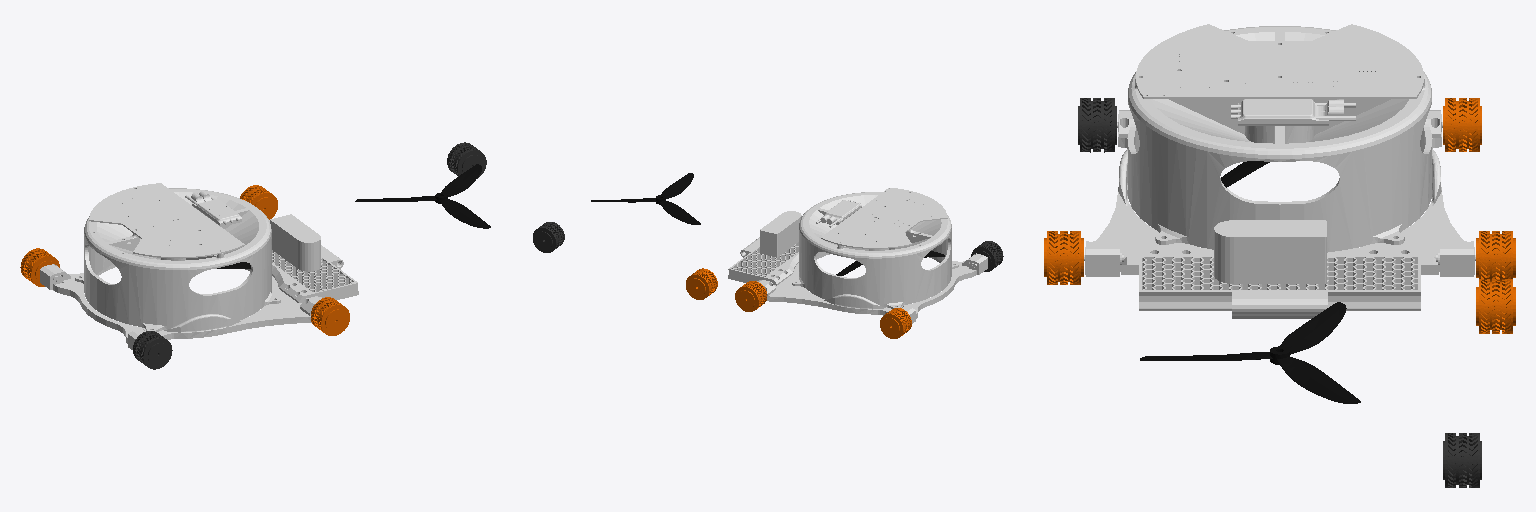
robot.urdf — urdf_risky:
<?xml version="1.0" encoding="utf-8"?>
<!-- This URDF was automatically created by SolidWorks to URDF Exporter! Originally created by Stephen Brawner (brawner@gmail.com) 
     Commit Version: 1.6.0-4-g7f85cfe  Build Version: 1.6.7995.38578
     For more information, please see http://wiki.ros.org/sw_urdf_exporter -->
<robot
  name="urdf_risky">
  <link
    name="base_link">
    <inertial>
      <origin
        xyz="-0.098856 -0.00062639 0.024345"
        rpy="0 0 0" />
      <mass
        value="0.60725" />
      <inertia
        ixx="0.0020429"
        ixy="1.9277E-07"
        ixz="4.0203E-06"
        iyy="0.0016671"
        iyz="1.228E-07"
        izz="0.0034081" />
    </inertial>
    <visual>
      <origin
        xyz="0 0 0"
        rpy="0 0 0" />
      <geometry>
        <mesh
          filename="package://urdf_risky/meshes/base_link.STL" />
      </geometry>
      <material
        name="">
        <color
          rgba="0.89412 0.89412 0.89412 1" />
      </material>
    </visual>
    <collision>
      <origin
        xyz="0 0 0"
        rpy="0 0 0" />
      <geometry>
        <mesh
          filename="package://urdf_risky/meshes/base_link.STL" />
      </geometry>
    </collision>
  </link>
  <link
    name="Rueda_r1_Link">
    <inertial>
      <origin
        xyz="1.1102E-16 2.5674E-16 3.8398E-06"
        rpy="0 0 0" />
      <mass
        value="0.020935" />
      <inertia
        ixx="2.4246E-06"
        ixy="-1.0869E-14"
        ixz="-1.4512E-17"
        iyy="2.4246E-06"
        iyz="-2.3635E-18"
        izz="2.8231E-06" />
    </inertial>
    <visual>
      <origin
        xyz="0 0 0"
        rpy="0 0 0" />
      <geometry>
        <mesh
          filename="package://urdf_risky/meshes/Rueda_r1_Link.STL" />
      </geometry>
      <material
        name="">
        <color
          rgba="0.25098 0.25098 0.25098 1" />
      </material>
    </visual>
    <collision>
      <origin
        xyz="0 0 0"
        rpy="0 0 0" />
      <geometry>
        <mesh
          filename="package://urdf_risky/meshes/Rueda_r1_Link.STL" />
      </geometry>
    </collision>
  </link>
  <joint
    name="Rueda_r1_Joint"
    type="continuous">
    <origin
      xyz="-0.23219 -0.11665 -0.005005"
      rpy="1.5708 0 0" />
    <parent
      link="base_link" />
    <child
      link="Rueda_r1_Link" />
    <axis
      xyz="0 0 1" />
    <limit
      effort="0.25"
      velocity="6" />
    <dynamics
      damping="0.02"
      friction="0.05" />
  </joint>
  <link
    name="Rueda_r2_Link">
    <inertial>
      <origin
        xyz="2.2204E-16 4.8572E-17 3.8398E-06"
        rpy="0 0 0" />
      <mass
        value="0.020935" />
      <inertia
        ixx="2.4246E-06"
        ixy="-1.141E-14"
        ixz="-1.4689E-17"
        iyy="2.4246E-06"
        iyz="7.5266E-19"
        izz="2.8231E-06" />
    </inertial>
    <visual>
      <origin
        xyz="0 0 0"
        rpy="0 0 0" />
      <geometry>
        <mesh
          filename="package://urdf_risky/meshes/Rueda_r2_Link.STL" />
      </geometry>
      <material
        name="">
        <color
          rgba="0.9098 0.44314 0.031373 1" />
      </material>
    </visual>
    <collision>
      <origin
        xyz="0 0 0"
        rpy="0 0 0" />
      <geometry>
        <mesh
          filename="package://urdf_risky/meshes/Rueda_r2_Link.STL" />
      </geometry>
    </collision>
  </link>
  <joint
    name="Rueda_r2_Joint"
    type="continuous">
    <origin
      xyz="-0.031186 -0.13795 -0.005"
      rpy="1.5708 0 0" />
    <parent
      link="base_link" />
    <child
      link="Rueda_r2_Link" />
    <axis
      xyz="0 0 1" />
    <limit
      effort="0.25"
      velocity="6" />
    <dynamics
      damping="0.02"
      friction="0.05" />
  </joint>
  <link
    name="Rueda_l1_Link">
    <inertial>
      <origin
        xyz="3.3307E-16 1.4572E-16 3.8398E-06"
        rpy="0 0 0" />
      <mass
        value="0.020935" />
      <inertia
        ixx="2.4246E-06"
        ixy="-1.141E-14"
        ixz="-1.4694E-17"
        iyy="2.4246E-06"
        iyz="7.5516E-19"
        izz="2.8231E-06" />
    </inertial>
    <visual>
      <origin
        xyz="0 0 0"
        rpy="0 0 0" />
      <geometry>
        <mesh
          filename="package://urdf_risky/meshes/Rueda_l1_Link.STL" />
      </geometry>
      <material
        name="">
        <color
          rgba="0.9098 0.44314 0.031373 1" />
      </material>
    </visual>
    <collision>
      <origin
        xyz="0 0 0"
        rpy="0 0 0" />
      <geometry>
        <mesh
          filename="package://urdf_risky/meshes/Rueda_l1_Link.STL" />
      </geometry>
    </collision>
  </link>
  <joint
    name="Rueda_l1_Joint"
    type="continuous">
    <origin
      xyz="-0.23219 0.11695 -0.005"
      rpy="1.5708 0 0" />
    <parent
      link="base_link" />
    <child
      link="Rueda_l1_Link" />
    <axis
      xyz="0 0 1" />
    <limit
      effort="0.25"
      velocity="6" />
    <dynamics
      damping="0.02"
      friction="0.05" />
  </joint>
  <link
    name="Rueda_l2_Link">
    <inertial>
      <origin
        xyz="1.6653E-16 1.1796E-16 3.8398E-06"
        rpy="0 0 0" />
      <mass
        value="0.020935" />
      <inertia
        ixx="2.4246E-06"
        ixy="-6.0169E-15"
        ixz="-1.2831E-17"
        iyy="2.4246E-06"
        iyz="7.1767E-18"
        izz="2.8231E-06" />
    </inertial>
    <visual>
      <origin
        xyz="0 0 0"
        rpy="0 0 0" />
      <geometry>
        <mesh
          filename="package://urdf_risky/meshes/Rueda_l2_Link.STL" />
      </geometry>
      <material
        name="">
        <color
          rgba="0.9098 0.44314 0.031373 1" />
      </material>
    </visual>
    <collision>
      <origin
        xyz="0 0 0"
        rpy="0 0 0" />
      <geometry>
        <mesh
          filename="package://urdf_risky/meshes/Rueda_l2_Link.STL" />
      </geometry>
    </collision>
  </link>
  <joint
    name="Rueda_l2_Joint"
    type="continuous">
    <origin
      xyz="-0.031186 0.13825 -0.005"
      rpy="1.5708 0 0" />
    <parent
      link="base_link" />
    <child
      link="Rueda_l2_Link" />
    <axis
      xyz="0 0 1" />
    <limit
      effort="0.25"
      velocity="6" />
    <dynamics
      damping="0.02"
      friction="0.05" />
  </joint>
  <link
    name="Aspa_back_Link">
    <inertial>
      <origin
        xyz="-8.7581E-06 -1.6362E-05 -0.00064604"
        rpy="0 0 0" />
      <mass
        value="0.0039524" />
      <inertia
        ixx="2.8375E-06"
        ixy="2.0141E-09"
        ixz="7.1489E-11"
        iyy="2.8331E-06"
        iyz="9.5346E-11"
        izz="5.6565E-06" />
    </inertial>
    <visual>
      <origin
        xyz="0 0 0"
        rpy="0 0 0" />
      <geometry>
        <mesh
          filename="package://urdf_risky/meshes/Aspa_back_Link.STL" />
      </geometry>
      <material
        name="">
        <color
          rgba="0.098039 0.098039 0.098039 1" />
      </material>
    </visual>
    <collision>
      <origin
        xyz="0 0 0"
        rpy="0 0 0" />
      <geometry>
        <mesh
          filename="package://urdf_risky/meshes/Aspa_back_Link.STL" />
      </geometry>
    </collision>
  </link>
  <joint
    name="Aspa_back_Joint"
    type="continuous">
    <origin
      xyz="-0.13449 0.00014892 0.024225"
      rpy="-3.1416 0 0" />
    <parent
      link="base_link" />
    <child
      link="Aspa_back_Link" />
    <axis
      xyz="0 0 1" />
    <limit
      effort="0.1"
      velocity="100" />
    <dynamics
      damping="0.0001"
      friction="0" />
  </joint>
  <link
    name="Chasis_frontal_Link">
    <inertial>
      <origin
        xyz="0.11982 0.028837 -0.0041216"
        rpy="0 0 0" />
      <mass
        value="0.51255" />
      <inertia
        ixx="0.0020082"
        ixy="-7.1373E-06"
        ixz="-1.6582E-07"
        iyy="0.0036612"
        iyz="4.399E-07"
        izz="0.0019505" />
    </inertial>
    <visual>
      <origin
        xyz="0 0 0"
        rpy="0 0 0" />
      <geometry>
        <mesh
          filename="package://urdf_risky/meshes/Chasis_frontal_Link.STL" />
      </geometry>
      <material
        name="">
        <color
          rgba="0.89412 0.89412 0.89412 1" />
      </material>
    </visual>
    <collision>
      <origin
        xyz="0 0 0"
        rpy="0 0 0" />
      <geometry>
        <mesh
          filename="package://urdf_risky/meshes/Chasis_frontal_Link.STL" />
      </geometry>
    </collision>
  </link>
  <joint
    name="Chasis_frontal_Joint"
    type="revolute">
    <origin
      xyz="0.041814 -0.0018511 -0.005"
      rpy="1.5708 -0.0086353 0" />
    <parent
      link="base_link" />
    <child
      link="Chasis_frontal_Link" />
    <axis
      xyz="0 0 1" />
    <limit
      lower="0"
      upper="1.571"
      effort="3"
      velocity="2" />
    <dynamics
      damping="0.05"
      friction="0.1" />
  </joint>
  <link
    name="Rueda_r3_Link">
    <inertial>
      <origin
        xyz="1.3878E-16 1.1102E-16 3.8398E-06"
        rpy="0 0 0" />
      <mass
        value="0.020935" />
      <inertia
        ixx="2.4246E-06"
        ixy="-9.3755E-15"
        ixz="-1.4013E-17"
        iyy="2.4246E-06"
        iyz="4.4547E-18"
        izz="2.8231E-06" />
    </inertial>
    <visual>
      <origin
        xyz="0 0 0"
        rpy="0 0 0" />
      <geometry>
        <mesh
          filename="package://urdf_risky/meshes/Rueda_r3_Link.STL" />
      </geometry>
      <material
        name="">
        <color
          rgba="0.9098 0.44314 0.031373 1" />
      </material>
    </visual>
    <collision>
      <origin
        xyz="0 0 0"
        rpy="0 0 0" />
      <geometry>
        <mesh
          filename="package://urdf_risky/meshes/Rueda_r3_Link.STL" />
      </geometry>
    </collision>
  </link>
  <joint
    name="Rueda_r3_Joint"
    type="continuous">
    <origin
      xyz="0 0 0.1361"
      rpy="0 0 0" />
    <parent
      link="Chasis_frontal_Link" />
    <child
      link="Rueda_r3_Link" />
    <axis
      xyz="0 0 1" />
    <limit
      effort="0.25"
      velocity="6" />
    <dynamics
      damping="0.02"
      friction="0.05" />
  </joint>
  <link
    name="Rueda_r4_Link">
    <inertial>
      <origin
        xyz="-1.3357E-16 -6.9389E-17 3.8398E-06"
        rpy="0 0 0" />
      <mass
        value="0.020935" />
      <inertia
        ixx="2.4246E-06"
        ixy="-9.2647E-15"
        ixz="1.3976E-17"
        iyy="2.4246E-06"
        iyz="-4.5682E-18"
        izz="2.8231E-06" />
    </inertial>
    <visual>
      <origin
        xyz="0 0 0"
        rpy="0 0 0" />
      <geometry>
        <mesh
          filename="package://urdf_risky/meshes/Rueda_r4_Link.STL" />
      </geometry>
      <material
        name="">
        <color
          rgba="0.9098 0.44314 0.031373 1" />
      </material>
    </visual>
    <collision>
      <origin
        xyz="0 0 0"
        rpy="0 0 0" />
      <geometry>
        <mesh
          filename="package://urdf_risky/meshes/Rueda_r4_Link.STL" />
      </geometry>
    </collision>
  </link>
  <joint
    name="Rueda_r4_Joint"
    type="continuous">
    <origin
      xyz="0.238 0 0.1148"
      rpy="0 0 0" />
    <parent
      link="Chasis_frontal_Link" />
    <child
      link="Rueda_r4_Link" />
    <axis
      xyz="0 0 1" />
    <limit
      effort="0.25"
      velocity="6" />
    <dynamics
      damping="0.02"
      friction="0.05" />
  </joint>
  <link
    name="Rueda_l3_Link">
    <inertial>
      <origin
        xyz="1.1102E-16 4.8572E-17 3.8398E-06"
        rpy="0 0 0" />
      <mass
        value="0.020935" />
      <inertia
        ixx="2.4246E-06"
        ixy="-2.7077E-15"
        ixz="-1.1552E-17"
        iyy="2.4246E-06"
        iyz="9.0912E-18"
        izz="2.8231E-06" />
    </inertial>
    <visual>
      <origin
        xyz="0 0 0"
        rpy="0 0 0" />
      <geometry>
        <mesh
          filename="package://urdf_risky/meshes/Rueda_l3_Link.STL" />
      </geometry>
      <material
        name="">
        <color
          rgba="0.9098 0.44314 0.031373 1" />
      </material>
    </visual>
    <collision>
      <origin
        xyz="0 0 0"
        rpy="0 0 0" />
      <geometry>
        <mesh
          filename="package://urdf_risky/meshes/Rueda_l3_Link.STL" />
      </geometry>
    </collision>
  </link>
  <joint
    name="Rueda_l3_Joint"
    type="continuous">
    <origin
      xyz="0 0 -0.1401"
      rpy="0 0 0" />
    <parent
      link="Chasis_frontal_Link" />
    <child
      link="Rueda_l3_Link" />
    <axis
      xyz="0 0 1" />
    <limit
      effort="0.25"
      velocity="6" />
    <dynamics
      damping="0.02"
      friction="0.05" />
  </joint>
  <link
    name="Rueda_l4_Link">
    <inertial>
      <origin
        xyz="1.4051E-16 1.0825E-15 3.8398E-06"
        rpy="0 0 0" />
      <mass
        value="0.020935" />
      <inertia
        ixx="2.4246E-06"
        ixy="-6.0169E-15"
        ixz="-1.2832E-17"
        iyy="2.4246E-06"
        iyz="7.1783E-18"
        izz="2.8231E-06" />
    </inertial>
    <visual>
      <origin
        xyz="0 0 0"
        rpy="0 0 0" />
      <geometry>
        <mesh
          filename="package://urdf_risky/meshes/Rueda_l4_Link.STL" />
      </geometry>
      <material
        name="">
        <color
          rgba="0.25098 0.25098 0.25098 1" />
      </material>
    </visual>
    <collision>
      <origin
        xyz="0 0 0"
        rpy="0 0 0" />
      <geometry>
        <mesh
          filename="package://urdf_risky/meshes/Rueda_l4_Link.STL" />
      </geometry>
    </collision>
  </link>
  <joint
    name="Rueda_l4_Joint"
    type="continuous">
    <origin
      xyz="0.238 0 -0.1188"
      rpy="0 0 0" />
    <parent
      link="Chasis_frontal_Link" />
    <child
      link="Rueda_l4_Link" />
    <axis
      xyz="0 0 1" />
    <limit
      effort="0.25"
      velocity="6" />
    <dynamics
      damping="0.02"
      friction="0.05" />
  </joint>
  <link
    name="Aspa_front_Link">
    <inertial>
      <origin
        xyz="5.2243E-06 9.8751E-07 0.00064559"
        rpy="0 0 0" />
      <mass
        value="0.0039539" />
      <inertia
        ixx="2.8402E-06"
        ixy="9.4271E-10"
        ixz="6.2501E-11"
        iyy="2.8389E-06"
        iyz="1.9222E-11"
        izz="5.6651E-06" />
    </inertial>
    <visual>
      <origin
        xyz="0 0 0"
        rpy="0 0 0" />
      <geometry>
        <mesh
          filename="package://urdf_risky/meshes/Aspa_front_Link.STL" />
      </geometry>
      <material
        name="">
        <color
          rgba="0.098039 0.098039 0.098039 1" />
      </material>
    </visual>
    <collision>
      <origin
        xyz="0 0 0"
        rpy="0 0 0" />
      <geometry>
        <mesh
          filename="package://urdf_risky/meshes/Aspa_front_Link.STL" />
      </geometry>
    </collision>
  </link>
  <joint
    name="Aspa_front_Joint"
    type="continuous">
    <origin
      xyz="0.1403 0.029225 -0.002"
      rpy="1.5708 0 0" />
    <parent
      link="Chasis_frontal_Link" />
    <child
      link="Aspa_front_Link" />
    <axis
      xyz="0 0 1" />
    <limit
      effort="0.1"
      velocity="100" />
    <dynamics
      damping="0.0001"
      friction="0" />
  </joint>
</robot>

--- Facts derived from the render (not from the file) ---
Views: 3 orthographic renders of the robot side by side, from view 1: azimuth 30°, elevation 25°; view 2: azimuth 150°, elevation 25°; view 3: azimuth 270°, elevation 25°.
Model urdf_risky with 12 links and 11 joints (1 revolute, 10 continuous), rooted at base_link, posed all joints at 0.
Visible links, largest first — view 1: base_link, Aspa_front_Link, Rueda_r2_Link, Rueda_r1_Link, Rueda_l4_Link, Rueda_l1_Link, Rueda_l3_Link; view 2: base_link, Aspa_front_Link, Rueda_l3_Link, Rueda_l4_Link, Rueda_l2_Link, Rueda_l1_Link; view 3: base_link, Aspa_front_Link, Rueda_l3_Link, Rueda_l4_Link, Rueda_r2_Link, Rueda_r1_Link, Rueda_l1_Link, Rueda_l2_Link, Aspa_back_Link.
Link boxes in pixels (box(x1,y1,x2,y2)): base_link: box(40, 183, 358, 349); Aspa_front_Link: box(355, 164, 490, 228); Rueda_r2_Link: box(311, 297, 349, 335); Rueda_r1_Link: box(133, 331, 172, 369); Rueda_l4_Link: box(447, 142, 486, 178); Rueda_l1_Link: box(20, 248, 59, 286); Rueda_l3_Link: box(240, 185, 277, 219); base_link: box(728, 188, 987, 323); Aspa_front_Link: box(591, 173, 700, 224); Rueda_l3_Link: box(686, 268, 717, 299); Rueda_l4_Link: box(533, 222, 564, 252); Rueda_l2_Link: box(735, 281, 766, 311); Rueda_l1_Link: box(880, 308, 911, 338); base_link: box(1084, 24, 1475, 318); Aspa_front_Link: box(1140, 302, 1360, 403); Rueda_l3_Link: box(1476, 279, 1515, 333); Rueda_l4_Link: box(1443, 433, 1481, 487); Rueda_r2_Link: box(1044, 231, 1083, 284); Rueda_r1_Link: box(1078, 98, 1116, 152); Rueda_l1_Link: box(1443, 98, 1481, 151); Rueda_l2_Link: box(1476, 231, 1515, 281); Aspa_back_Link: box(1221, 161, 1269, 187).
Size in the robot's own frame: 0.547 by 0.3012 by 0.1012 metres.
9 mesh visuals loaded from 12 distinct referenced files (9 binary STL); not drawn: 3 (reference not matched to a file when rendering).
